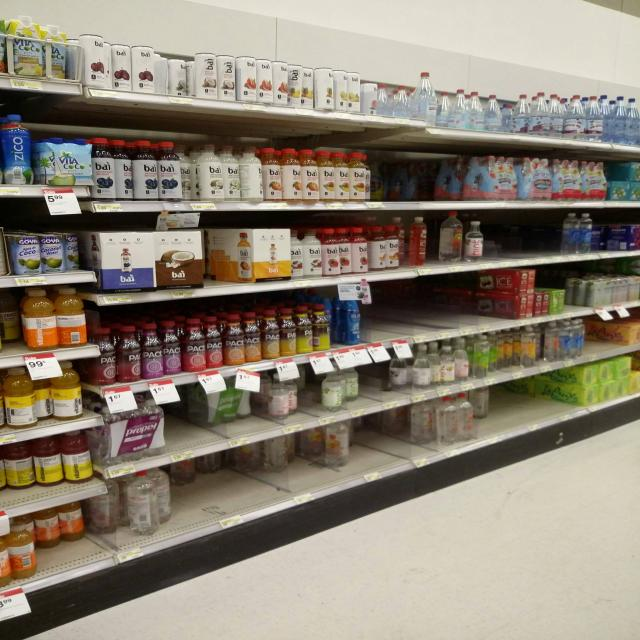empty: (353, 271, 490, 351), (487, 374, 566, 436), (486, 216, 568, 258), (581, 307, 631, 353)
